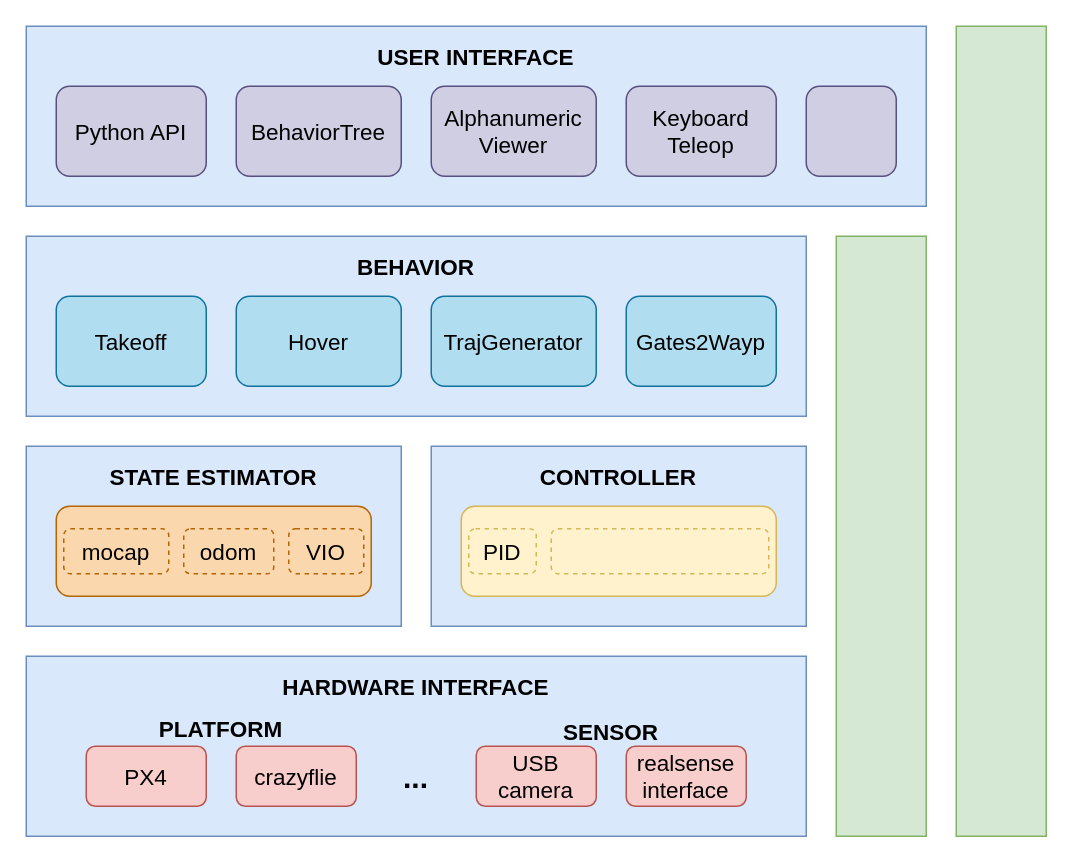
This 1073x863 diagram has some shape labels left out. The shapes that lost their labels are listed below. From the top down, each one's centre as x and y in pixels, then its label:
At [850,130]: "WebUI".
At [1000,430]: "INTERCOMMUNICATION CHANNEL".
At [659,550]: "differential_flatness".
At [880,535]: "EMERGENCY HANDLER".
